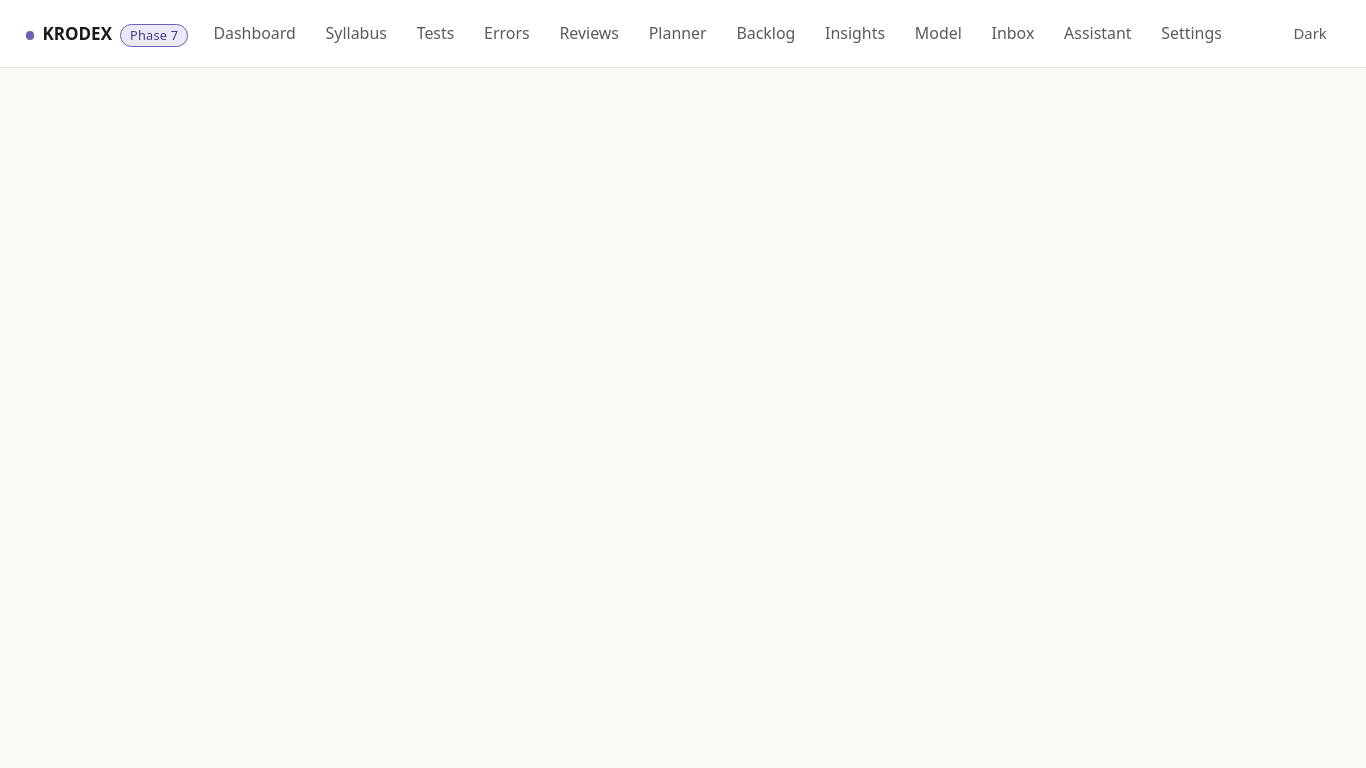
Test: AppNav › toggles the theme when the theme button is clicked
Step 1. Click the button with test id "nav-theme-toggle" → (1310,33), box x1=1280 y1=13 x2=1340 y2=54
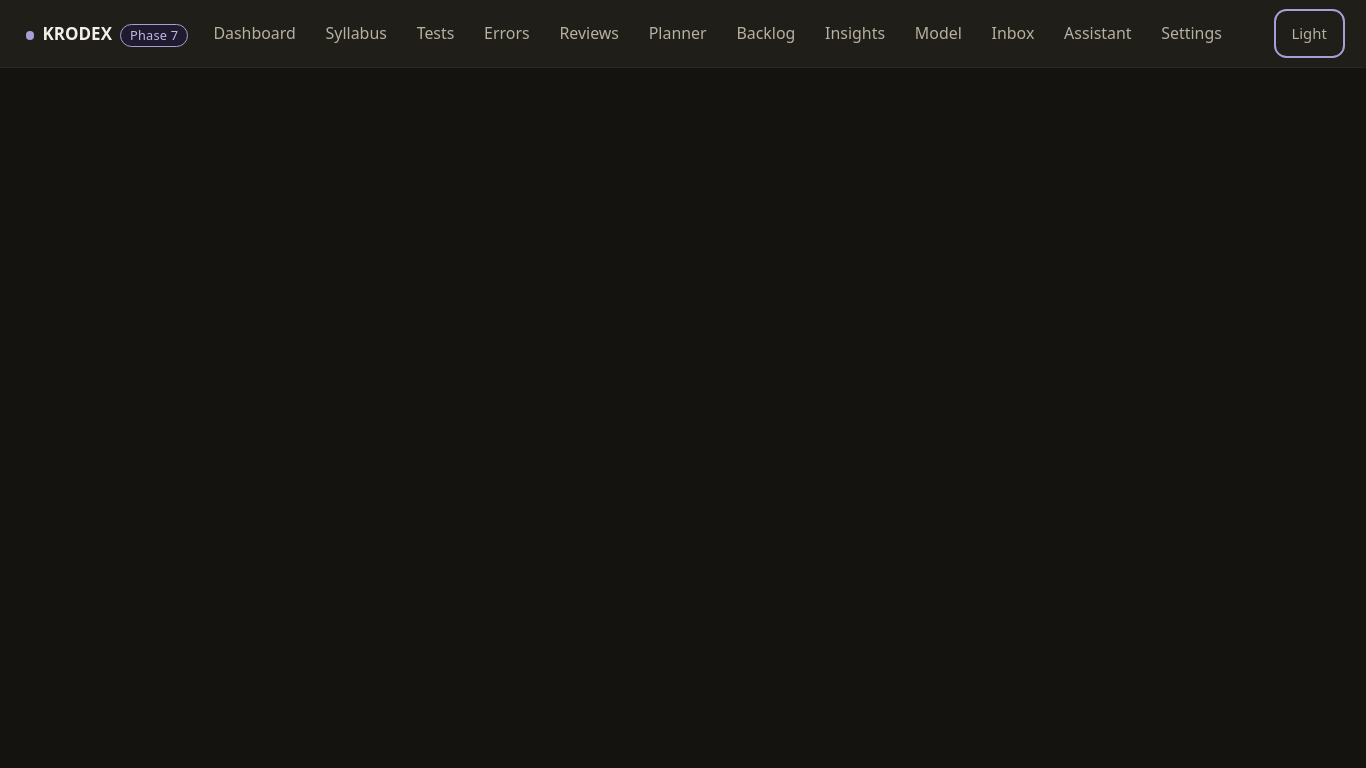
Expected: the button with test id "nav-theme-toggle" no longer shows "Dark"
